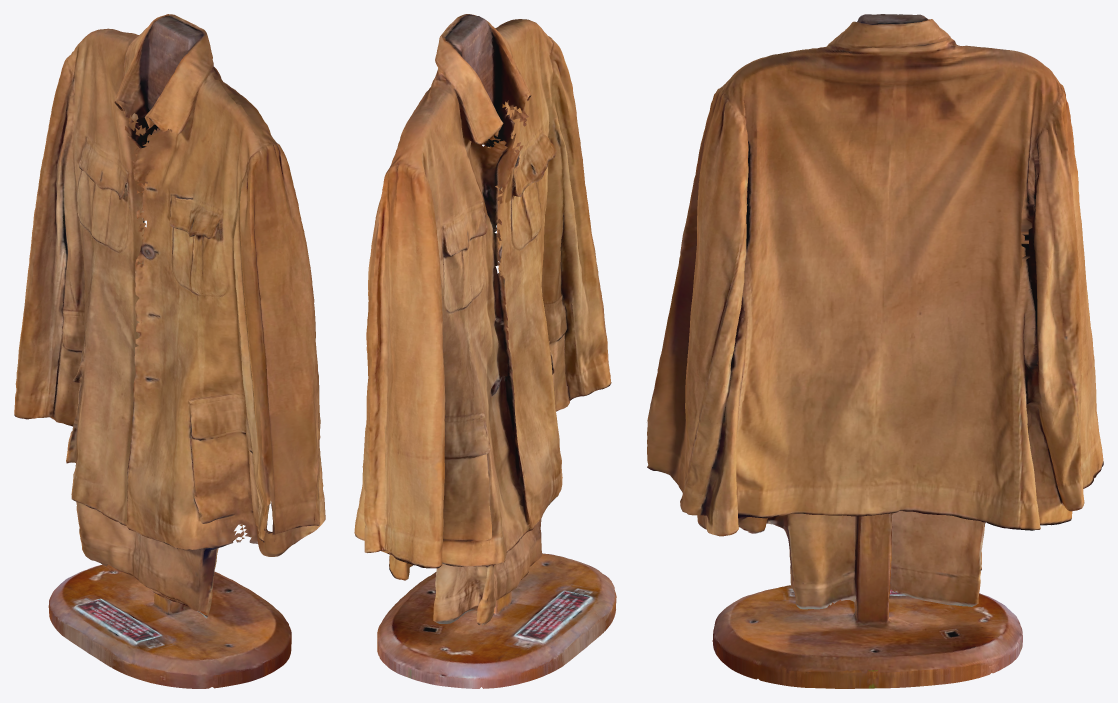
Rendered from bo_quan_ao_kaki_cua_chu_tich_ho_chi_minh.glb.
3 renders of one model, left to right at view 1: azimuth 30°, elevation 25°; view 2: azimuth 150°, elevation 25°; view 3: azimuth 270°, elevation 25°, orthographic. The views are drawn at different scales.
Visible parts, largest first — view 1: Object_4; view 2: Object_4; view 3: Object_4.
Part boxes in pixels (left/top/right/bottom): Object_4: left=14, top=14, right=325, bottom=688; Object_4: left=354, top=14, right=616, bottom=688; Object_4: left=647, top=14, right=1103, bottom=688.
Size of the model in its own units: 0.0957 by 0.3108 by 0.2025.
Materials: 1 (1 with a texture image).
